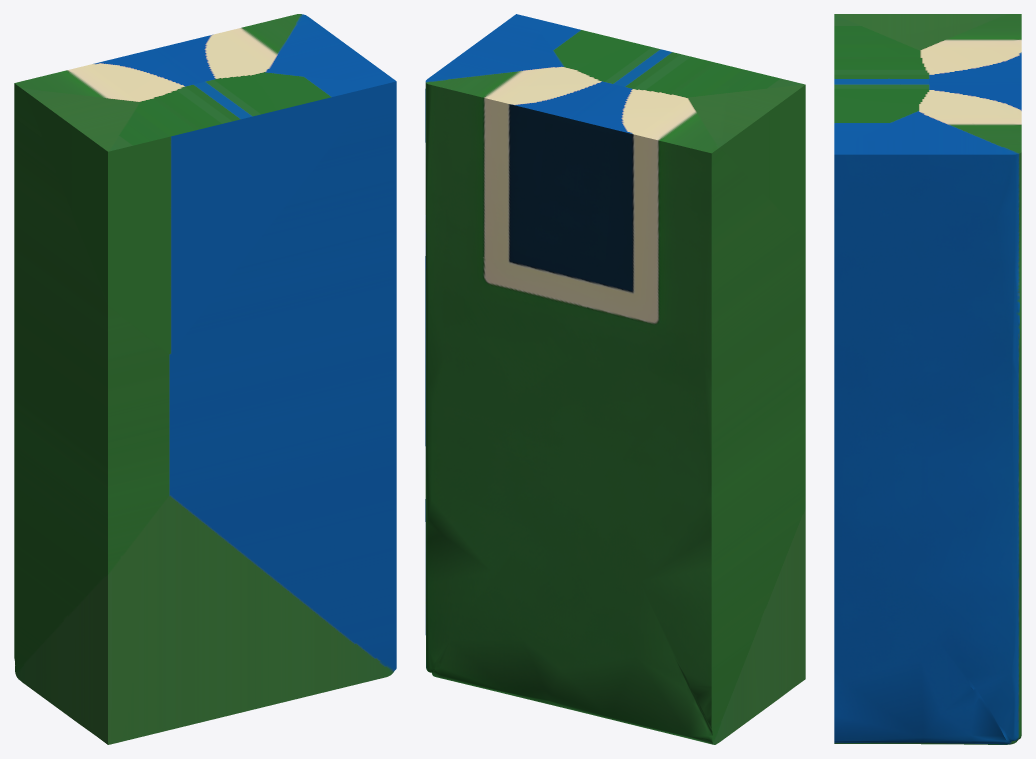
Rendered from 4-ground-floor-back-right.fbx.
3 views of the same model, side by side, from view 1: azimuth 30°, elevation 25°; view 2: azimuth 150°, elevation 25°; view 3: azimuth 270°, elevation 25° (orthographic).
Parts seen in each view (by area): view 1: ground-floor-back-right; view 2: ground-floor-back-right; view 3: ground-floor-back-right.
Boxes of the visible parts, bbox=[...] form: ground-floor-back-right: bbox=[14, 14, 396, 744]; ground-floor-back-right: bbox=[425, 14, 805, 744]; ground-floor-back-right: bbox=[834, 14, 1021, 744].
Size of the model in its own units: 5300 by 10386 by 2976.
1 material, 1 textured.
